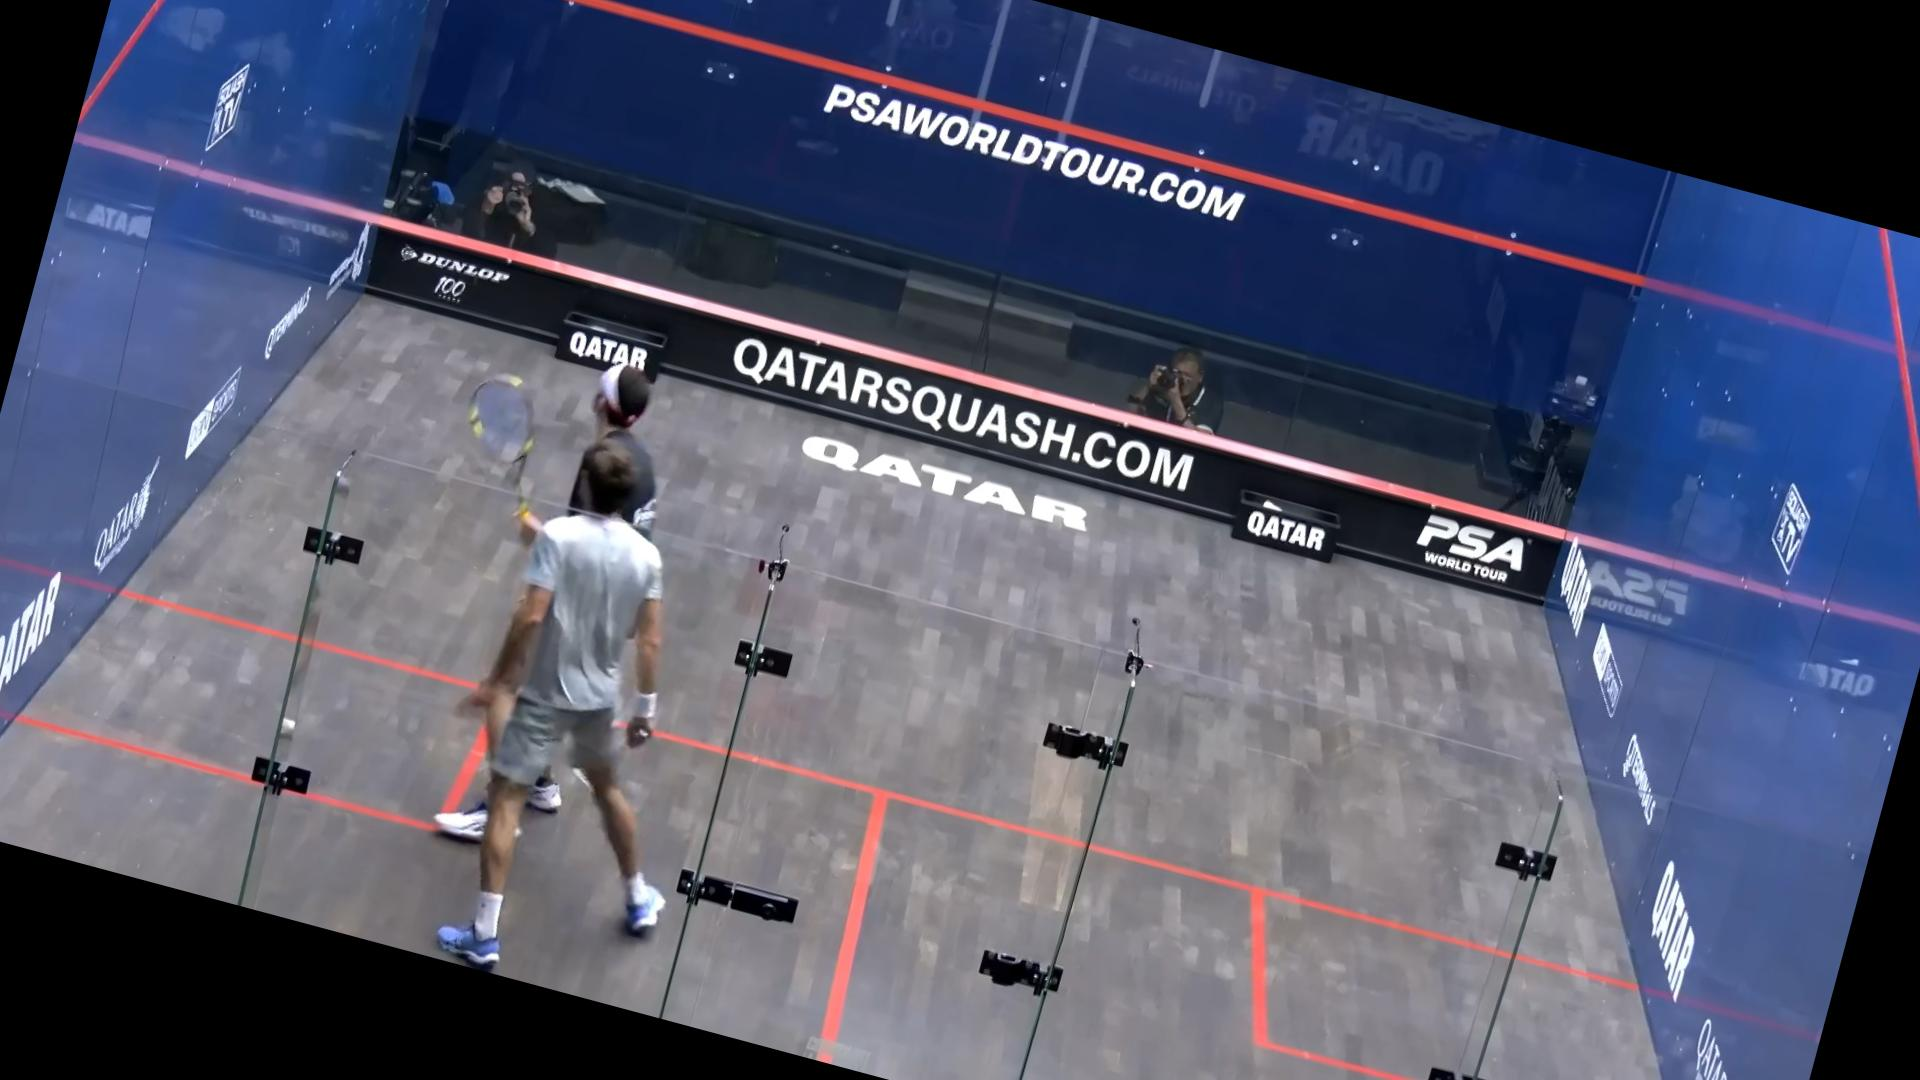Racket: (431, 357, 571, 517)
